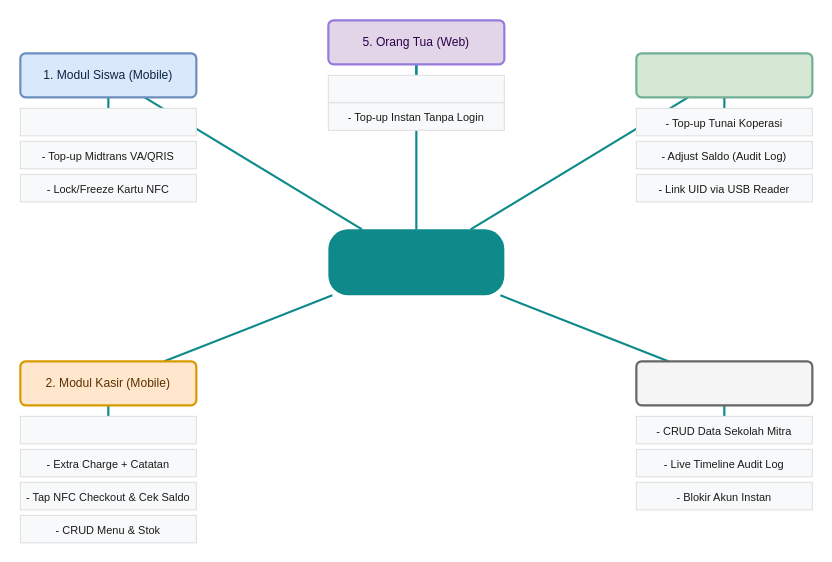
The diagram is 832 pixels wide and 562 high, and some of its shapes have lost their labels. The centre of each missing label's shape, as x and y in pixels:
"- Cek Saldo & Histori" belongs at point (107, 121).
"- Pantau Jajan NIS Anak" belongs at point (415, 88).
"- POS Katalog Belanja" belongs at point (107, 429).
"3. Admin Sekolah (Web)" belongs at point (724, 75).
"4. Master Admin (Web)" belongs at point (724, 383).
"FITUR UTAMA KANTIN DIGITAL" belongs at point (416, 262).
